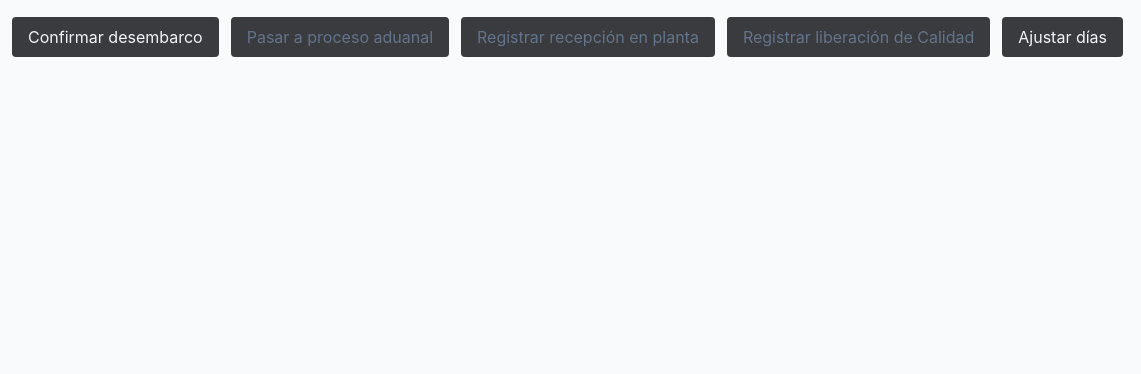
Test case: ninguna acción es de un clic (RF-14) › cancelar cierra el formulario sin hacer nada
Click the button "Ajustar días": {"x": 1063, "y": 37} [1002, 17, 1123, 57]
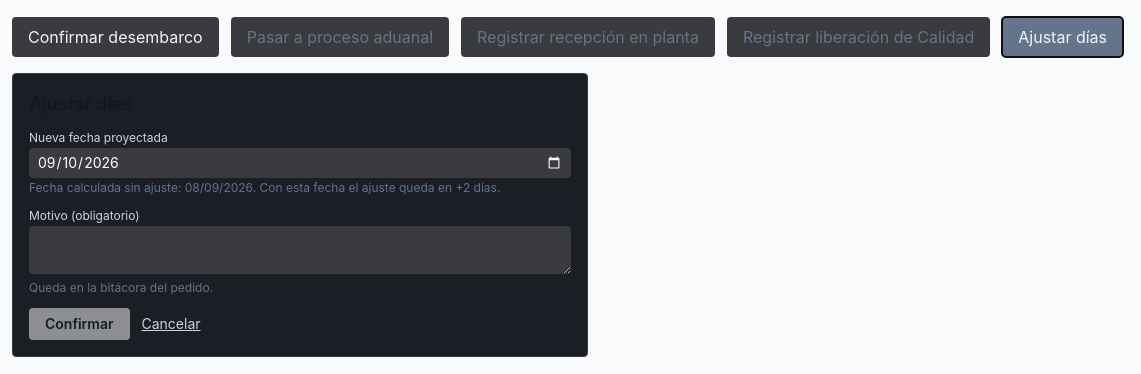
In the text box labelled "Motivo (obligatorio) Queda en la bitácora del pedido.": {"x": 300, "y": 250} [29, 226, 571, 274], type "Confirmado con el agente aduanal"
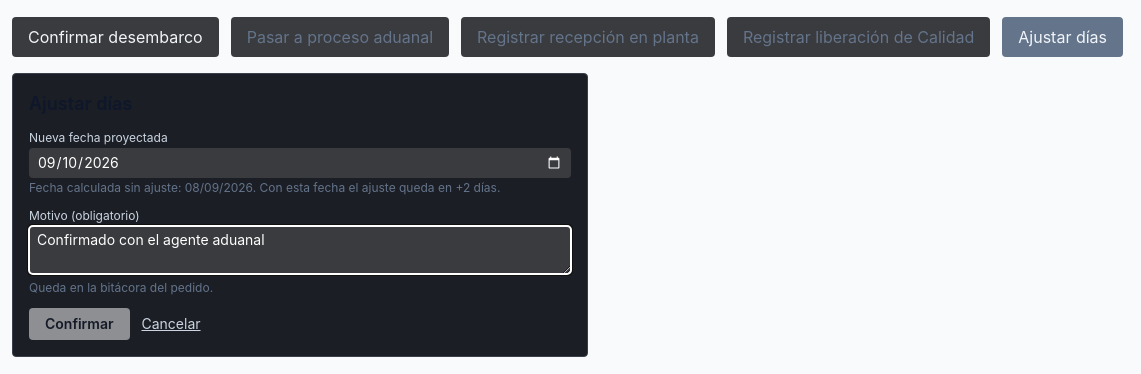
Click the button "Cancelar": {"x": 171, "y": 324} [142, 308, 200, 340]
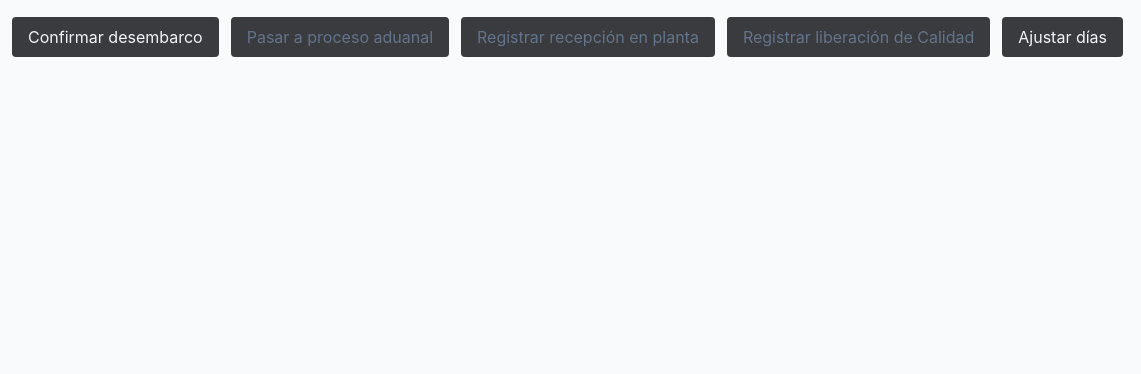
Check: the label labelled "Motivo" is gone
